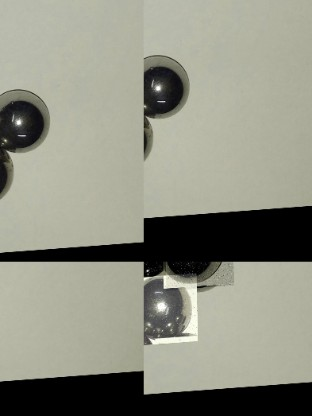ironball: (143, 274, 196, 346), (144, 48, 194, 119), (0, 83, 52, 150), (164, 261, 232, 291), (0, 150, 19, 197)
